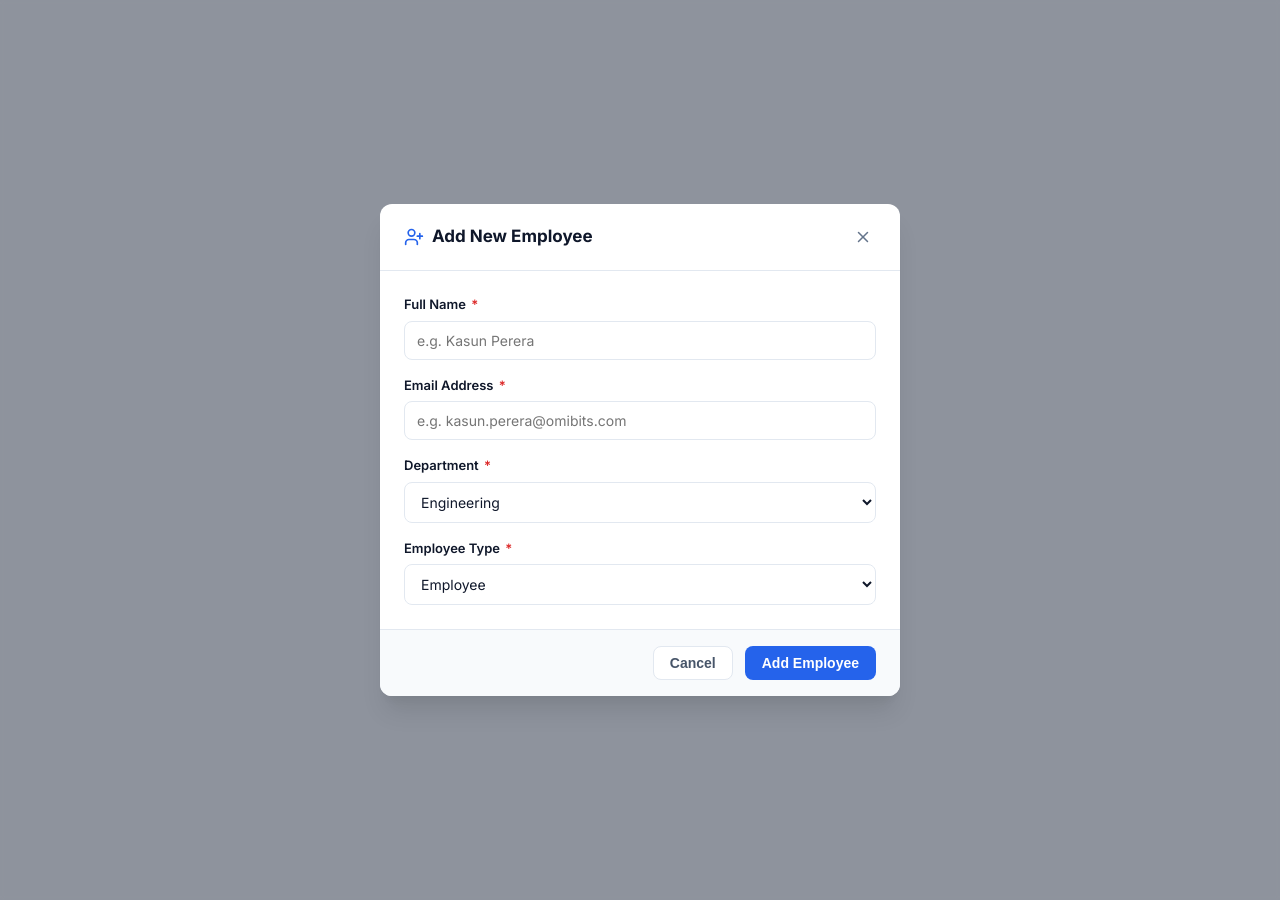
Test: Frontend Component & Form Tests › EmployeeModal Form Validation › validates required fields and invalid email format
// Click submit with empty fields
Click the button "Add Employee". click: x=810, y=663
box: [745,646,876,680]
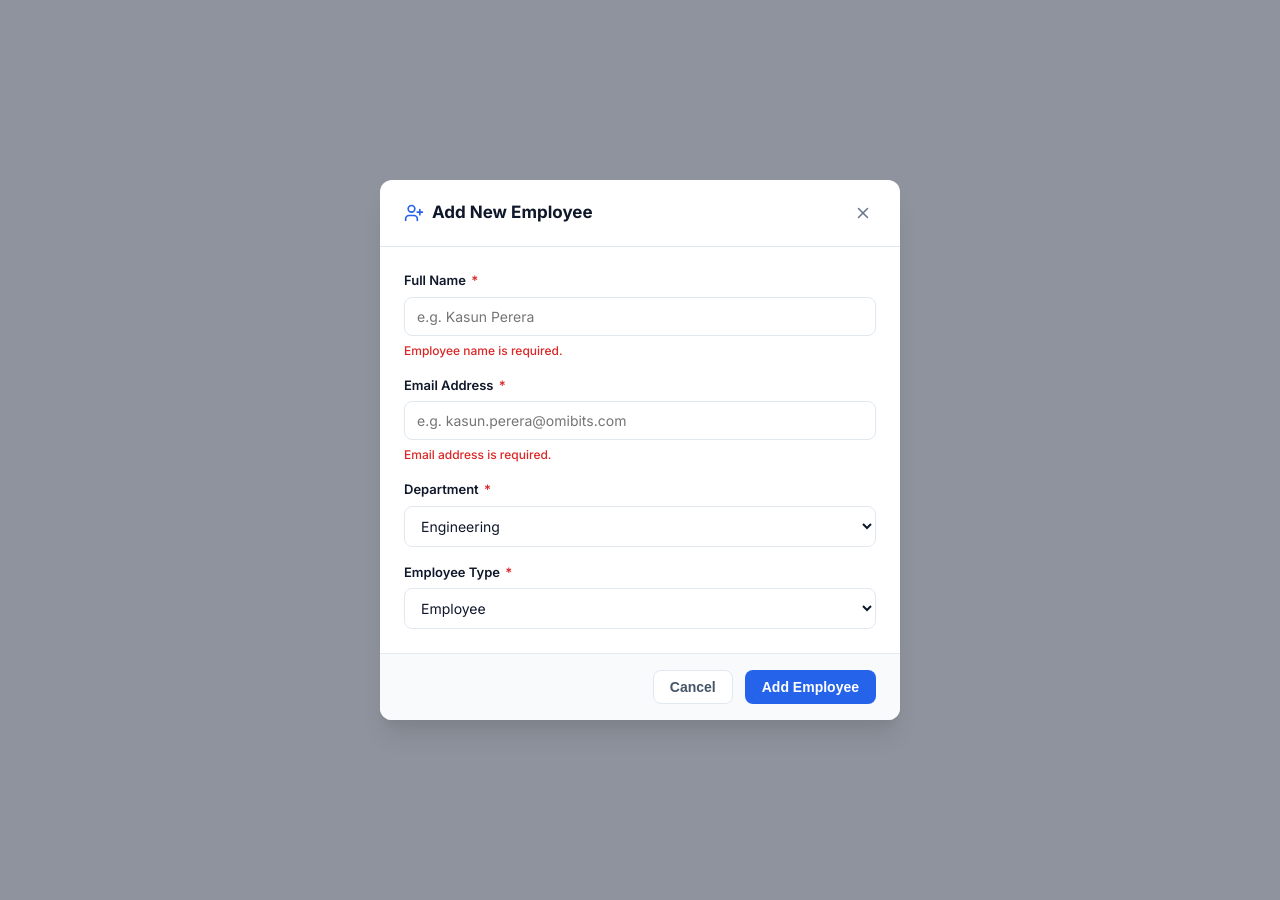
Check: the text "Employee name is required." is shown, box [404,342,563,358]
Check: the text "Email address is required." is shown, box [404,447,552,462]
// Enter invalid email
Type "not-valid" into the field labelled "Email Address *". click: x=640, y=420
box: [404,401,876,440]
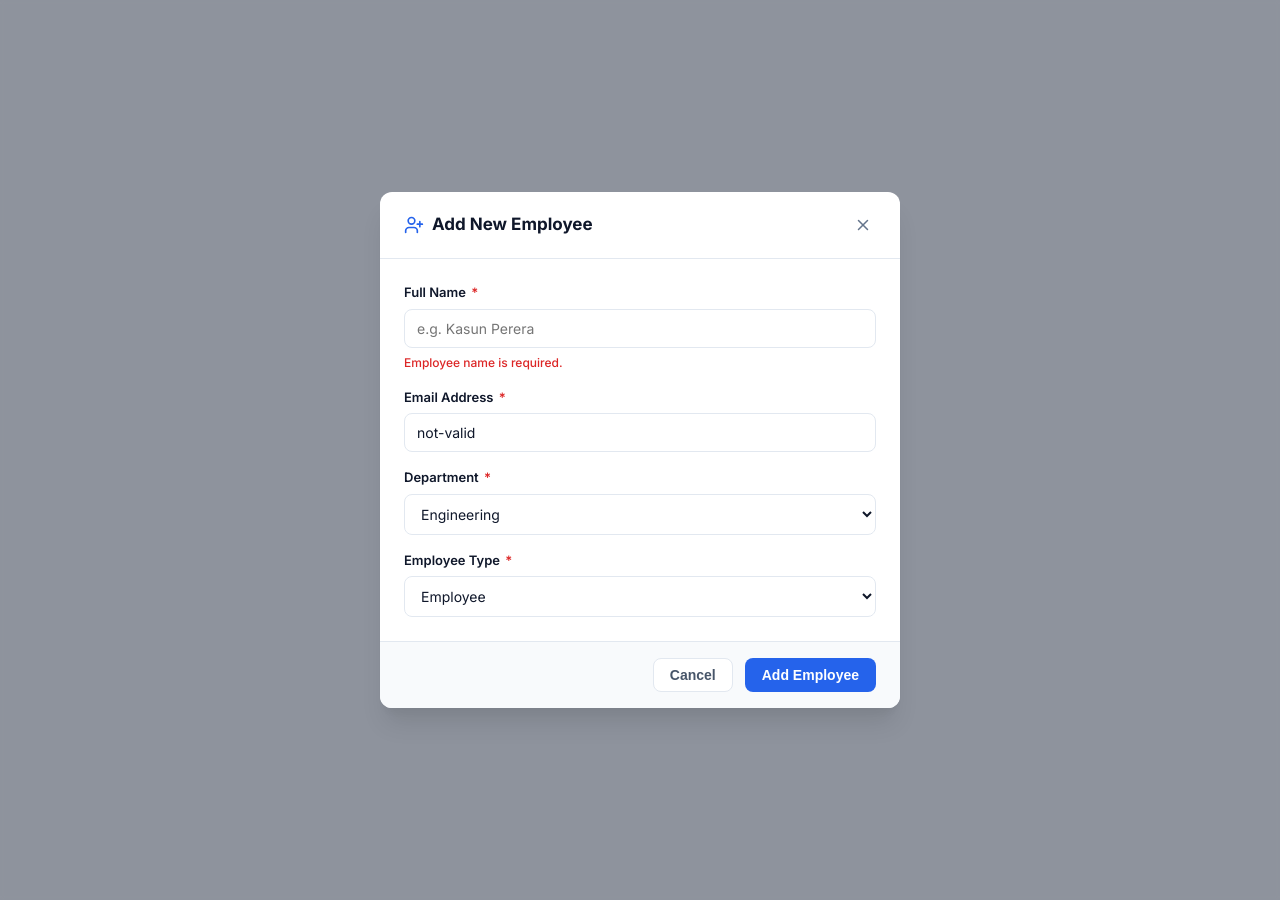
Type "Nuwan Silva" into the field labelled "Full Name *". click: x=640, y=328
box: [404,308,876,348]
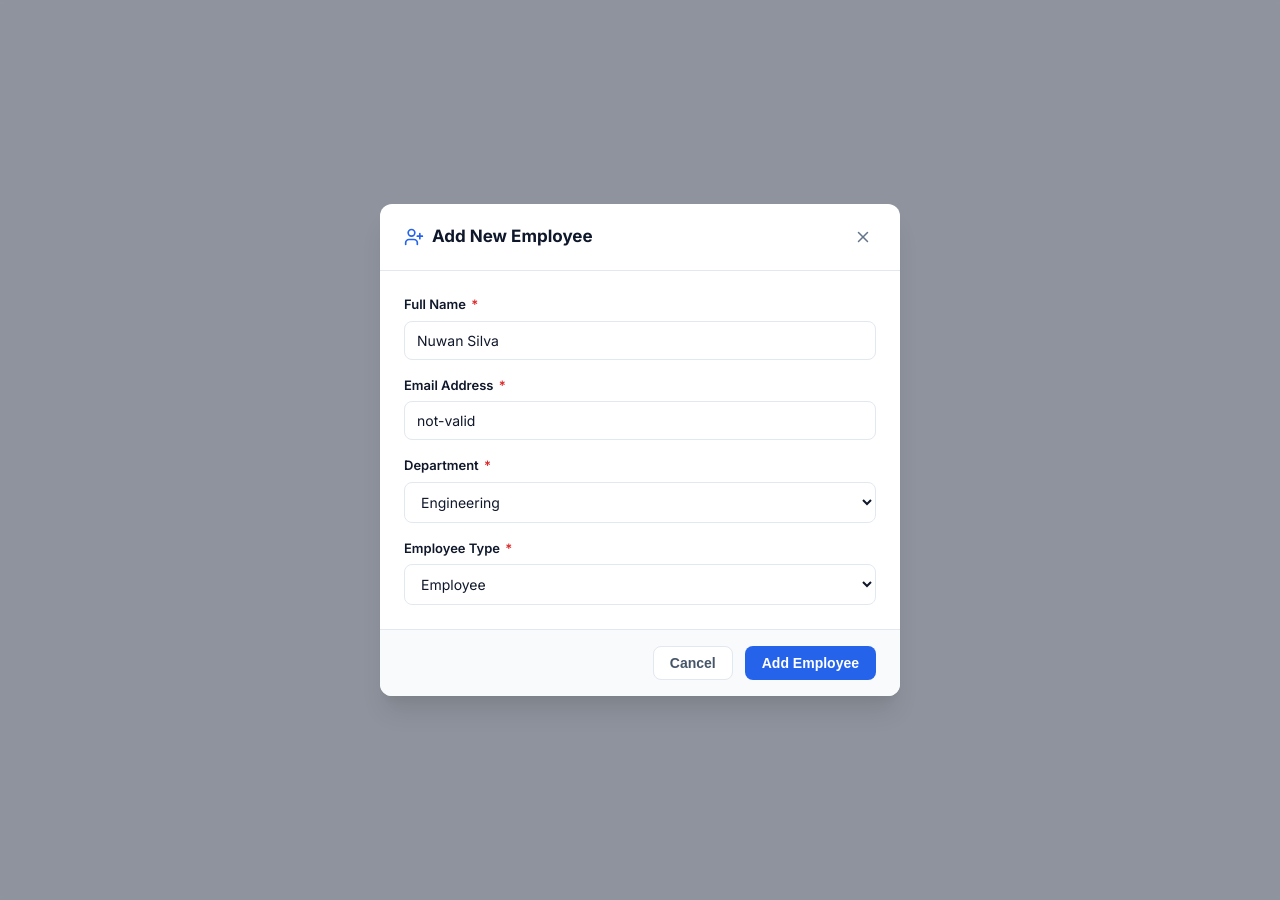
Click the button "Add Employee". click: x=810, y=663
box: [745,646,876,680]
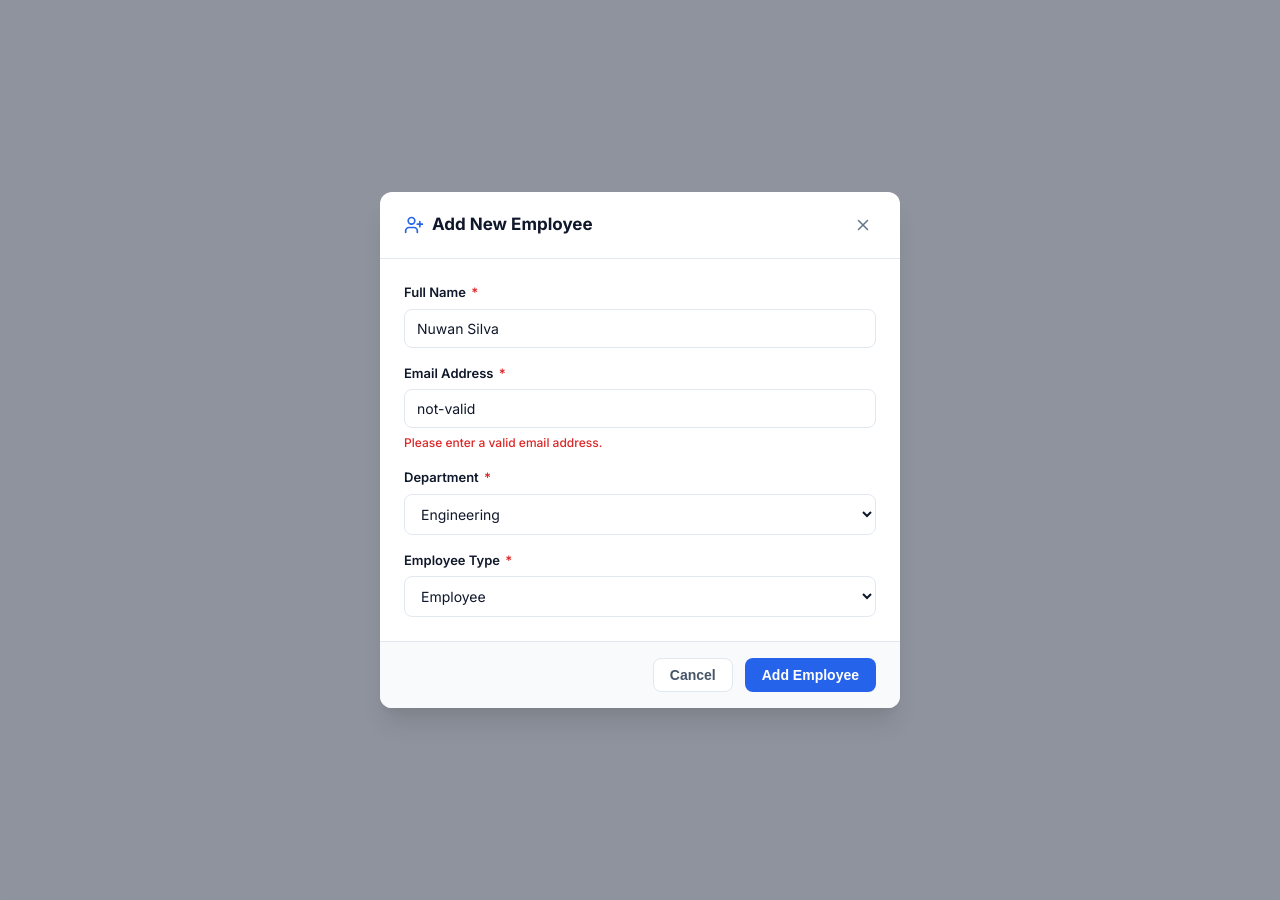
Check: the text "Please enter a valid email address." is shown, box [404,435,602,450]
